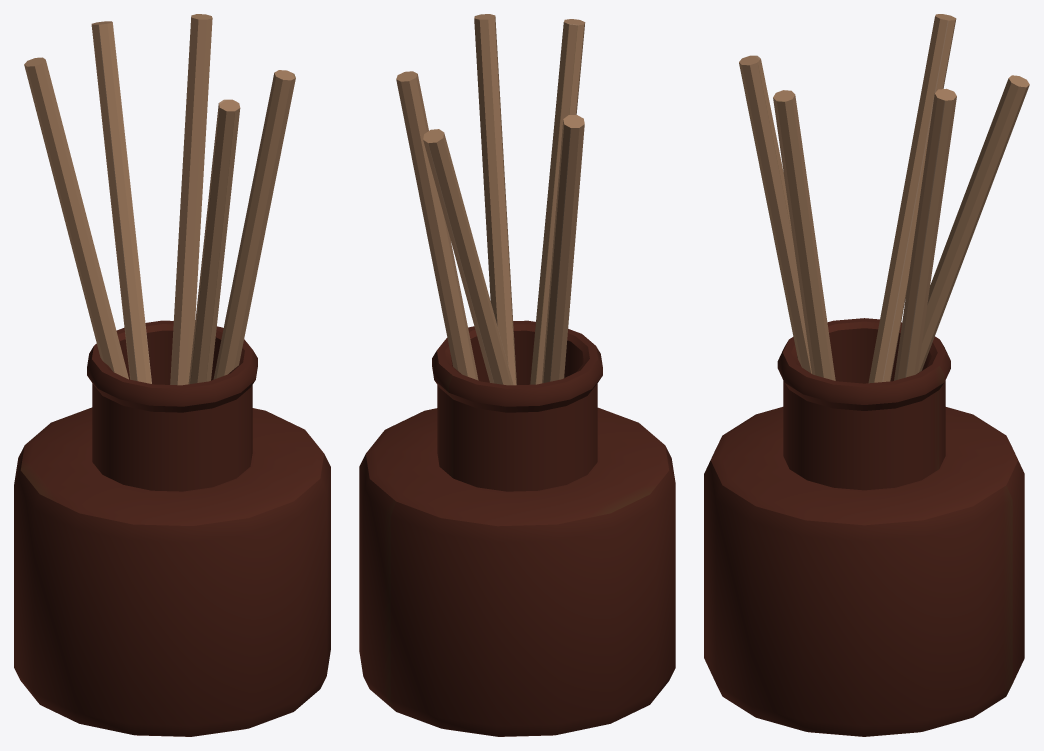
Rendered from pudelko drewniane.fbx.
3 renders of one model, left to right at view 1: azimuth 30°, elevation 25°; view 2: azimuth 150°, elevation 25°; view 3: azimuth 270°, elevation 25°, orthographic.
Parts seen in each view (by area): view 1: Cylinder, Cylinder.003, Cylinder.005, Cylinder.002, Cylinder.004, Cylinder.001; view 2: Cylinder, Cylinder.004, Cylinder.003, Cylinder.005, Cylinder.002, Cylinder.001; view 3: Cylinder, Cylinder.002, Cylinder.003, Cylinder.004, Cylinder.005, Cylinder.001.
Part boxes in pixels (x1,y1,x2,y2): Cylinder: (14,320,330,736); Cylinder.003: (170,14,212,385); Cylinder.005: (91,21,151,383); Cylinder.002: (24,57,128,379); Cylinder.004: (213,70,295,379); Cylinder.001: (188,99,240,384); Cylinder: (359,320,675,736); Cylinder.004: (474,14,516,385); Cylinder.003: (396,71,478,380); Cylinder.005: (423,129,513,385); Cylinder.002: (542,115,584,383); Cylinder.001: (530,19,585,384); Cylinder: (704,318,1024,736); Cylinder.002: (868,14,956,383); Cylinder.003: (894,88,956,380); Cylinder.004: (773,90,835,380); Cylinder.005: (918,75,1029,372); Cylinder.001: (739,55,811,373).
Bounding box in the file's own units: 31.83 × 31.33 × 66.53.
